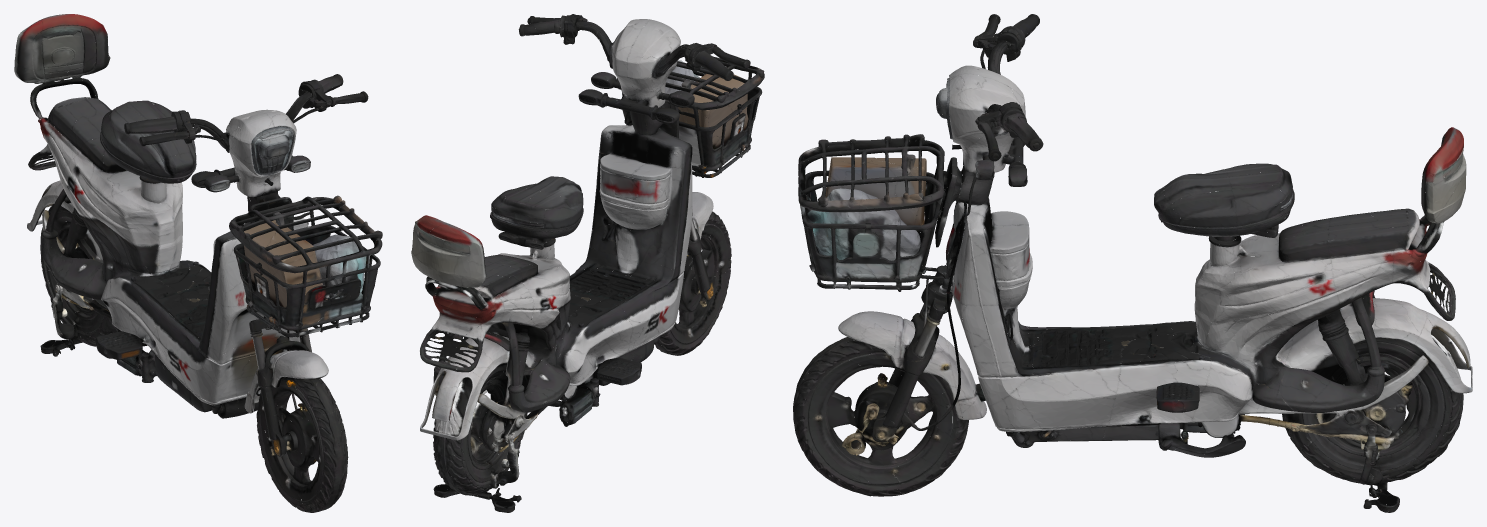
File: ebike.glb
The picture shows the model from 3 angles, left to right: view 1: azimuth 30°, elevation 25°; view 2: azimuth 150°, elevation 25°; view 3: azimuth 270°, elevation 25°; orthographic projection. The views are drawn at different scales.
Visible parts, largest first — view 1: tmpfgs27a3b.obj; view 2: tmpfgs27a3b.obj; view 3: tmpfgs27a3b.obj.
Boxes of the visible parts, x1=… form: tmpfgs27a3b.obj: x1=14, y1=14, x2=382, y2=512; tmpfgs27a3b.obj: x1=411, y1=14, x2=764, y2=512; tmpfgs27a3b.obj: x1=793, y1=14, x2=1472, y2=512.
Size of the model in its own units: 0.7849 by 1.22 by 1.76.
Materials: 1 (1 with a texture image).
